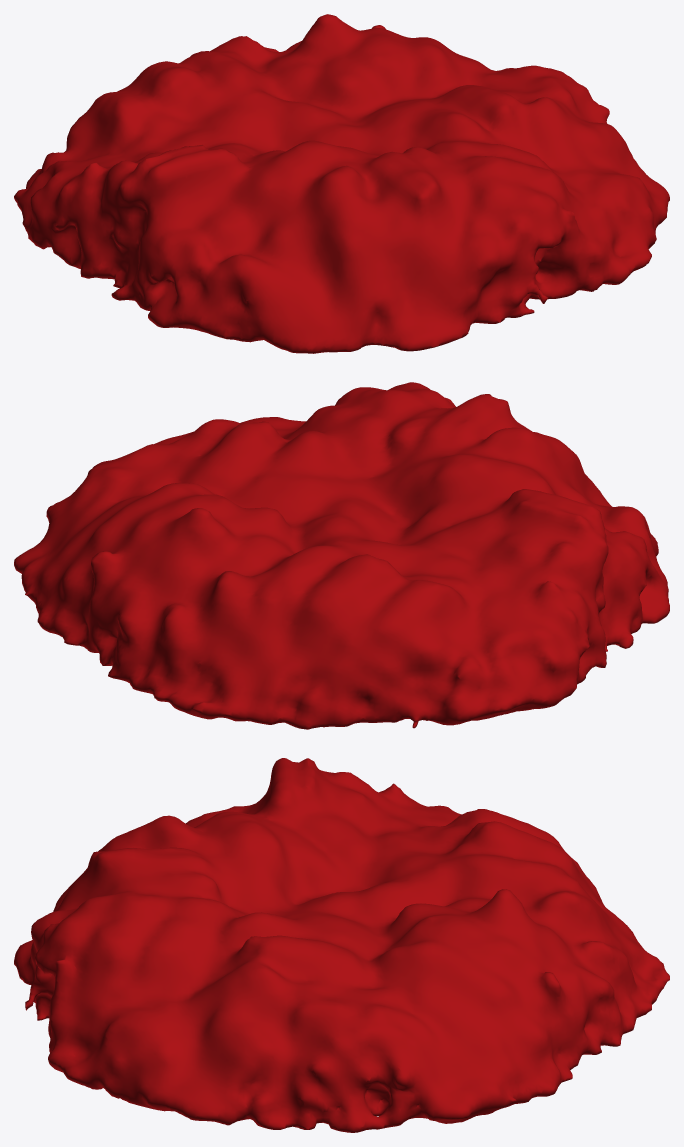
Rendered from Sauce.fbx.
3 renders of one model, top to bottom at view 1: azimuth 30°, elevation 25°; view 2: azimuth 150°, elevation 25°; view 3: azimuth 270°, elevation 25°, orthographic. The views are drawn at different scales.
Parts seen in each view (by area): view 1: Sauce; view 2: Sauce; view 3: Sauce.
Part boxes in pixels (left/top/right/bottom): Sauce: left=14, top=14, right=669, bottom=353; Sauce: left=14, top=382, right=669, bottom=729; Sauce: left=14, top=758, right=669, bottom=1132.
Size of the model in its own units: 20.22 by 4.88 by 20.36.
